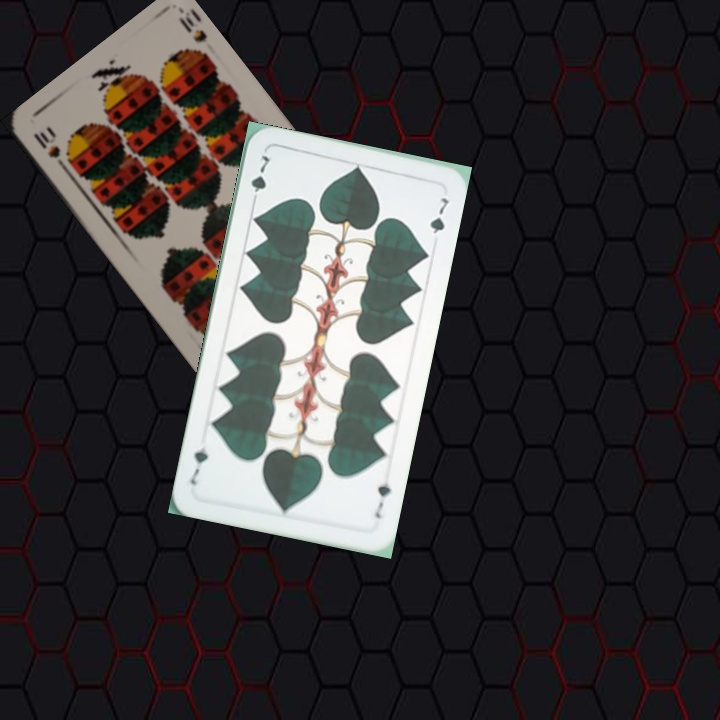G7: (246, 151, 273, 208), (371, 479, 394, 521)
S10: (29, 123, 72, 175)
